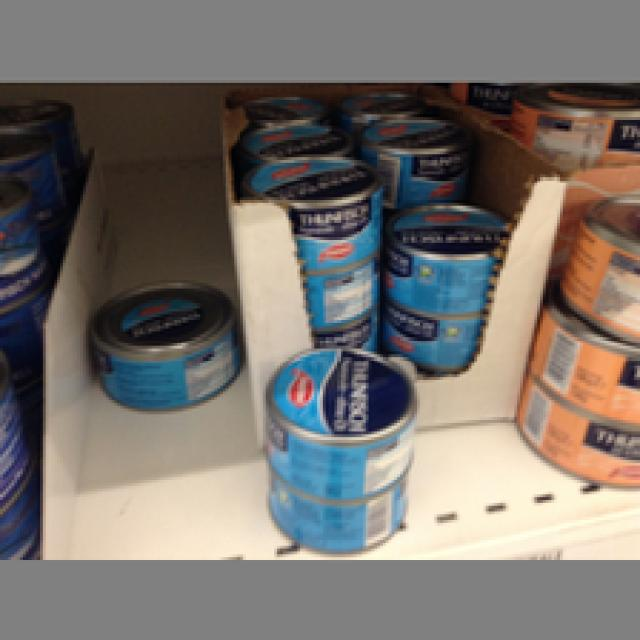groceries: (260, 340, 417, 497), (83, 277, 240, 409), (248, 152, 383, 272), (380, 203, 506, 314), (257, 463, 409, 551), (357, 114, 463, 194)
